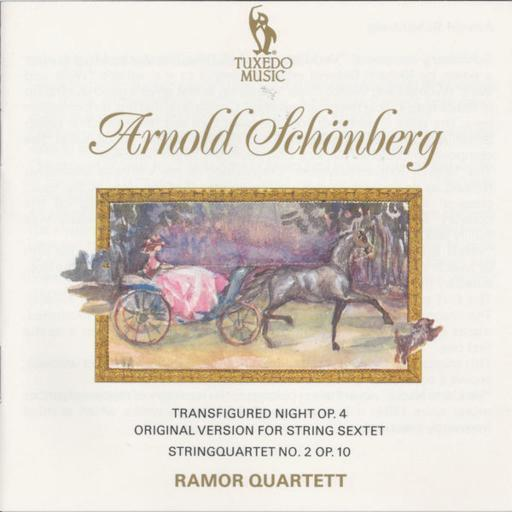horse: (214, 220, 396, 352)
